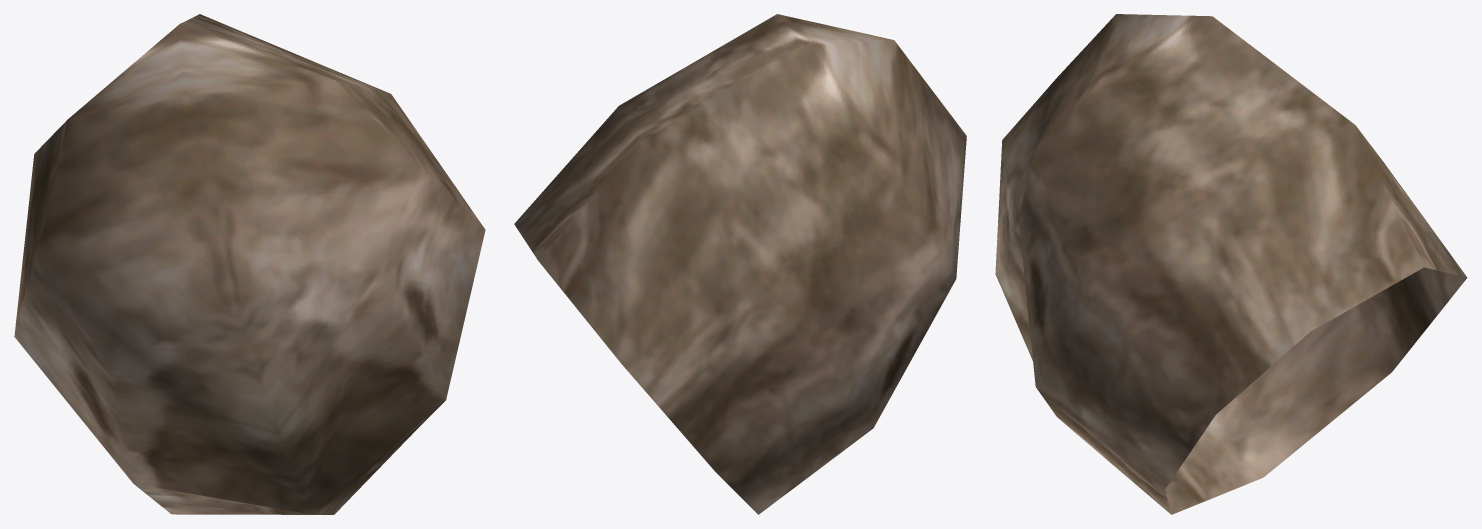
The model's file is OVERHILL_A_01_ROCK49.fbx.
3 renders of one model, left to right at view 1: azimuth 30°, elevation 25°; view 2: azimuth 150°, elevation 25°; view 3: azimuth 270°, elevation 25°, orthographic. The views are drawn at different scales.
Parts seen in each view (by area): view 1: OVERHILL_A_01_ROCK49; view 2: OVERHILL_A_01_ROCK49; view 3: OVERHILL_A_01_ROCK49.
Part boxes in pixels (<box>): OVERHILL_A_01_ROCK49: <box>14,14,485,514</box>; OVERHILL_A_01_ROCK49: <box>514,14,966,514</box>; OVERHILL_A_01_ROCK49: <box>995,14,1467,514</box>.
Bounding box in the file's own units: 9048 × 10462 × 9895.
1 material, 1 textured.
